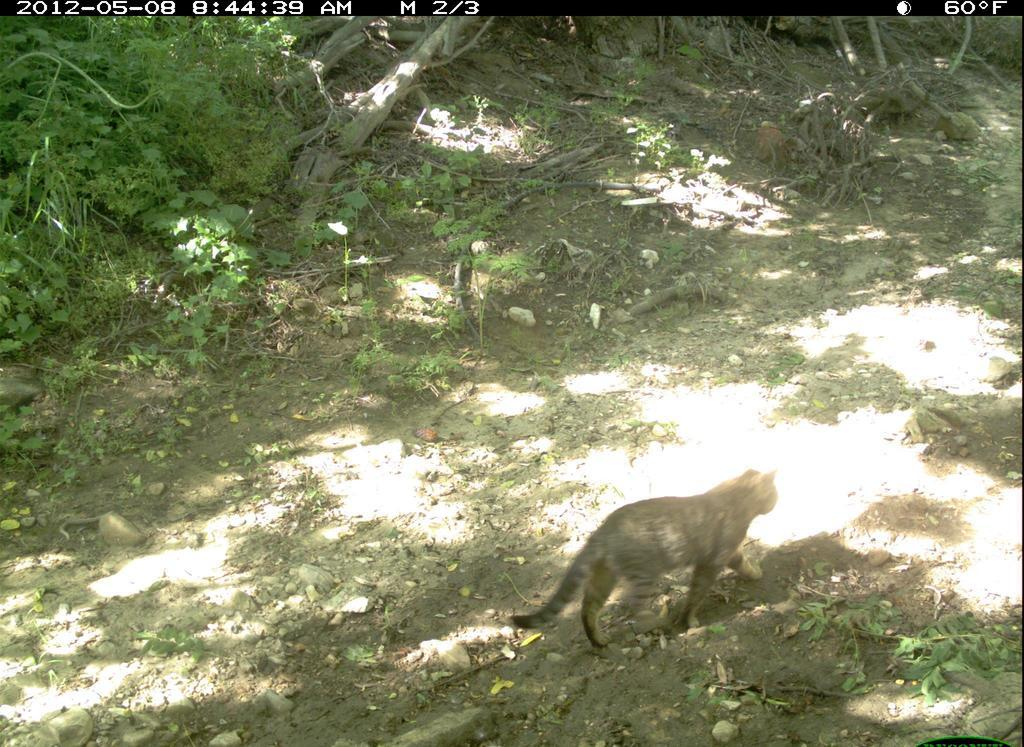cat: (502, 454, 790, 669)
